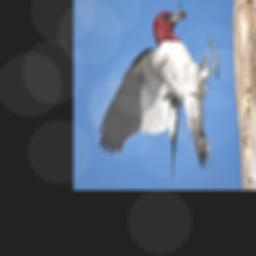Woodpecker: (97, 4, 220, 176)
